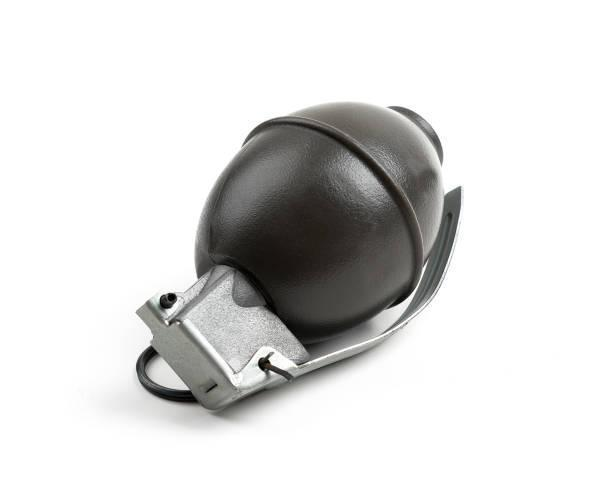Grenade: (134, 100, 462, 411)
